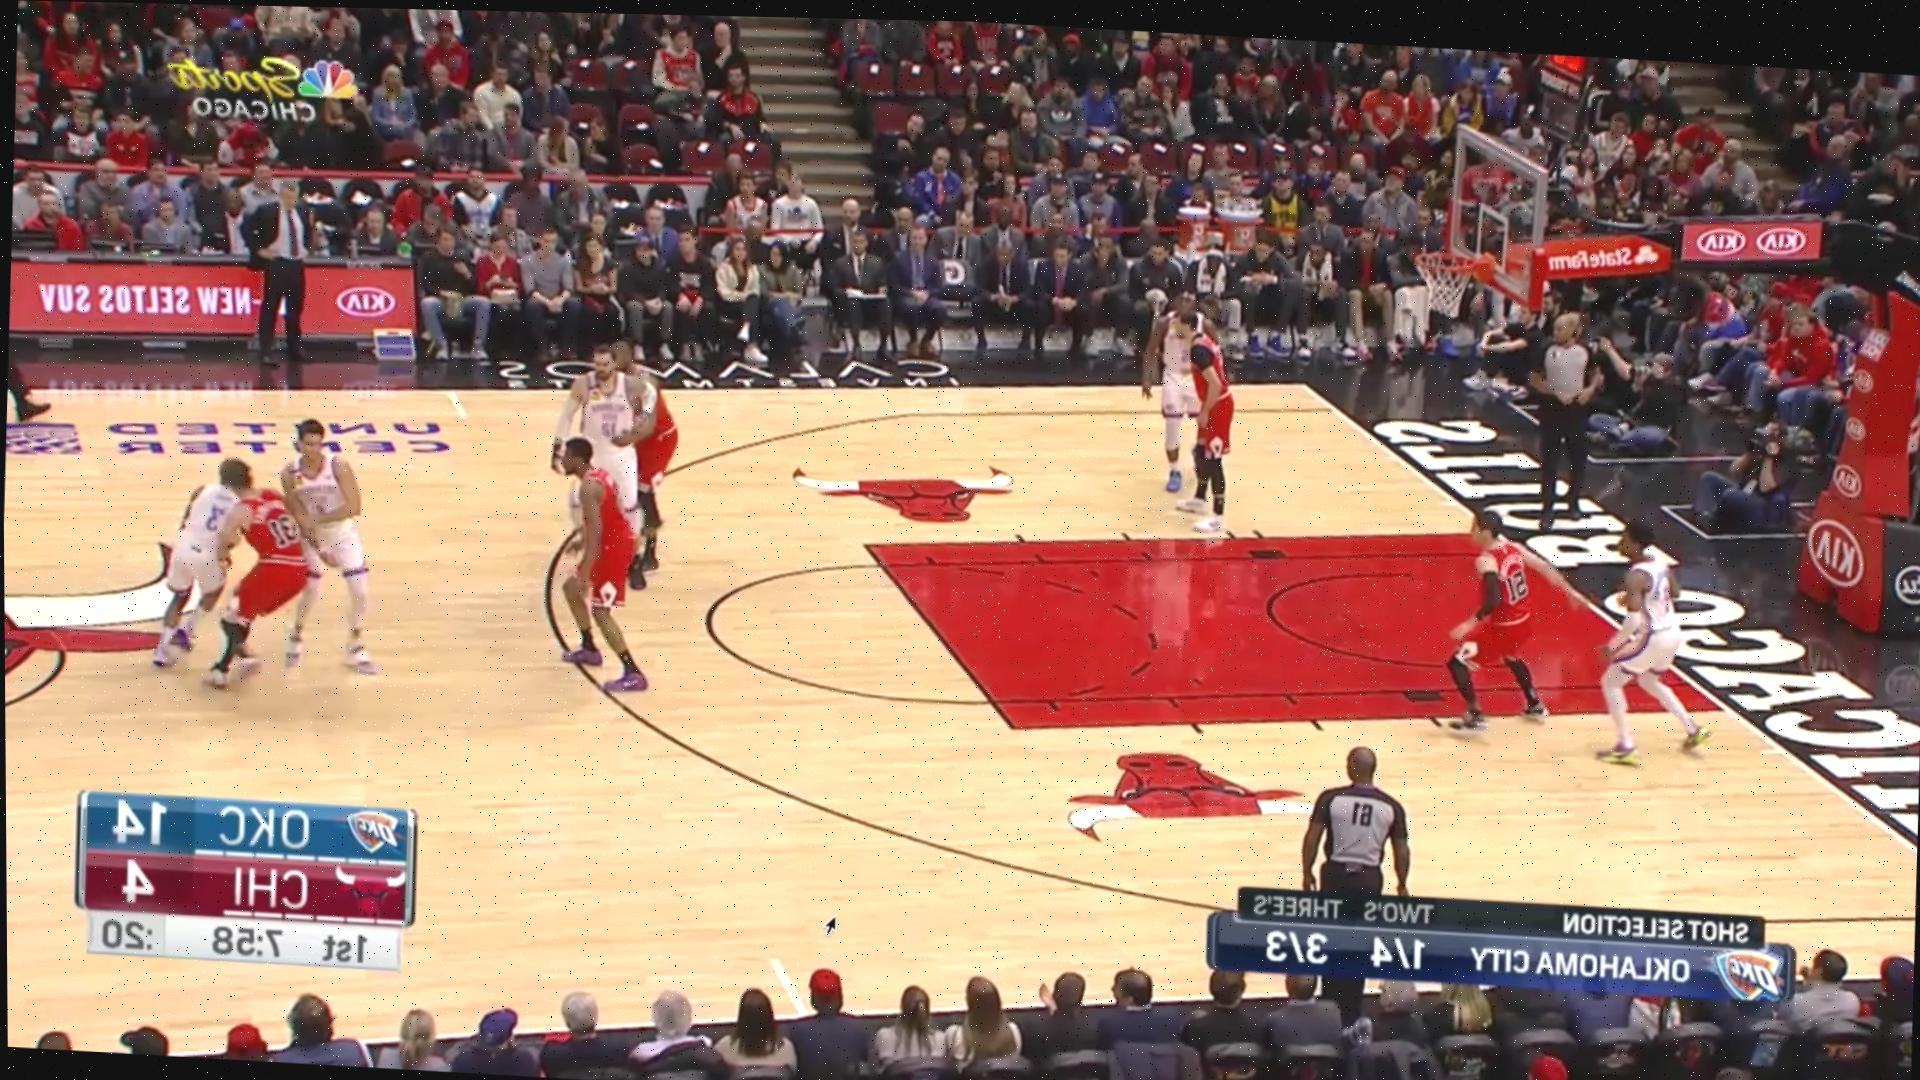no_foul: (145, 414, 307, 690)
